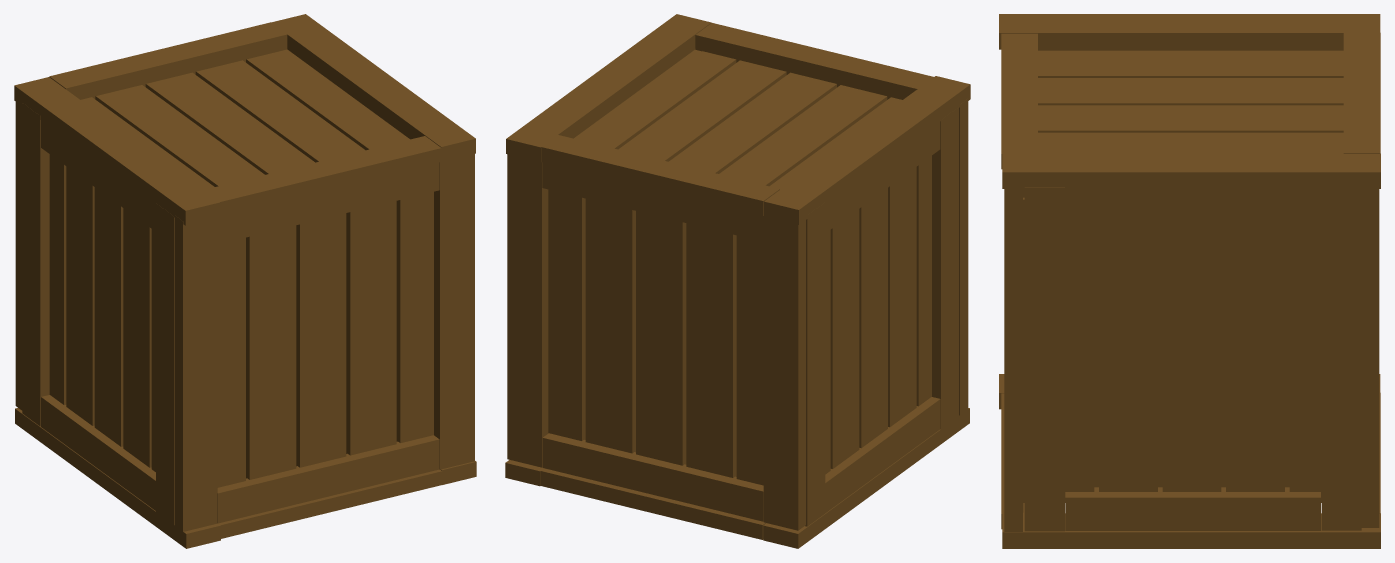
The model's file is MSH_Box_02.fbx.
3 views of the same model, side by side, from view 1: azimuth 30°, elevation 25°; view 2: azimuth 150°, elevation 25°; view 3: azimuth 270°, elevation 25° (orthographic). The views are drawn at different scales.
Parts seen in each view (by area): view 1: MSH_Box_02; view 2: MSH_Box_02; view 3: MSH_Box_02.
Boxes of the visible parts, x1=… form: MSH_Box_02: x1=14, y1=14, x2=476, y2=548; MSH_Box_02: x1=505, y1=14, x2=970, y2=548; MSH_Box_02: x1=999, y1=14, x2=1380, y2=548.
Size of the model in its own units: 85.71 by 94.76 by 87.08.
